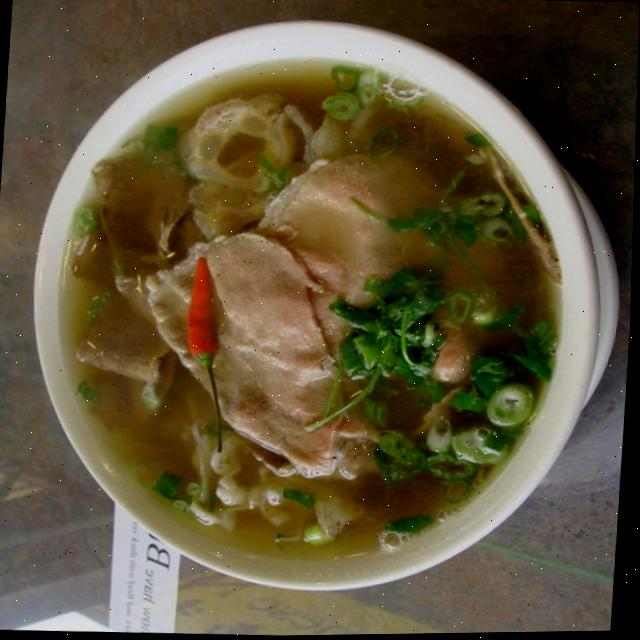面条主食: (33, 36, 561, 571)
